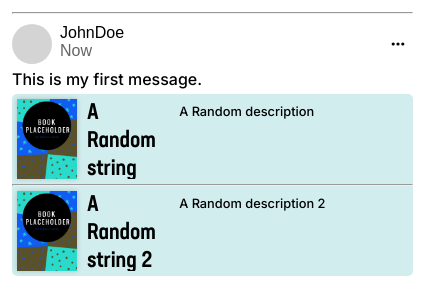
Test case: WithoutBookMessage › should render a Delete button for a user with an access level of equal to 3
Click the button with test id "more-button": (398, 44) [383, 29, 413, 59]
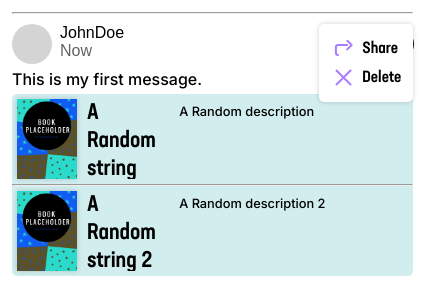
Now the text "Delete" is shown, box [362, 68, 401, 88]
